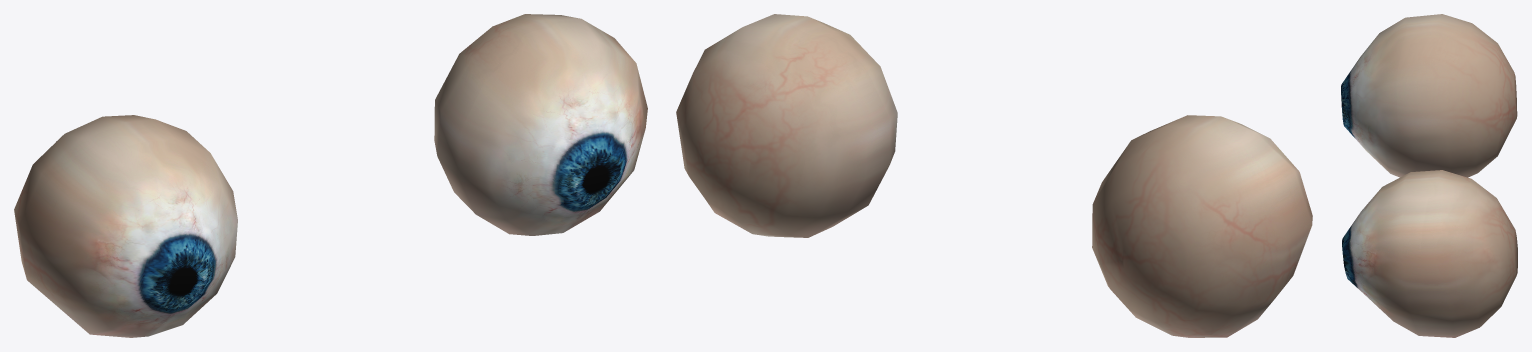
Rendered from Eyes.FBX.
3 views of the same model, side by side, from view 1: azimuth 30°, elevation 25°; view 2: azimuth 150°, elevation 25°; view 3: azimuth 270°, elevation 25° (orthographic). The views are drawn at different scales.
Parts seen in each view (by area): view 1: RightEye, LeftEye; view 2: LeftEye, RightEye; view 3: RightEye, LeftEye.
Part boxes in pixels (x1,y1,x2,y2): RightEye: (14,115,237,337); LeftEye: (434,14,647,235); LeftEye: (676,14,897,237); RightEye: (1092,115,1312,337); RightEye: (1341,14,1517,177); LeftEye: (1342,170,1517,337).
Size of the model in its own units: 8.12 by 2.62 by 2.7.
